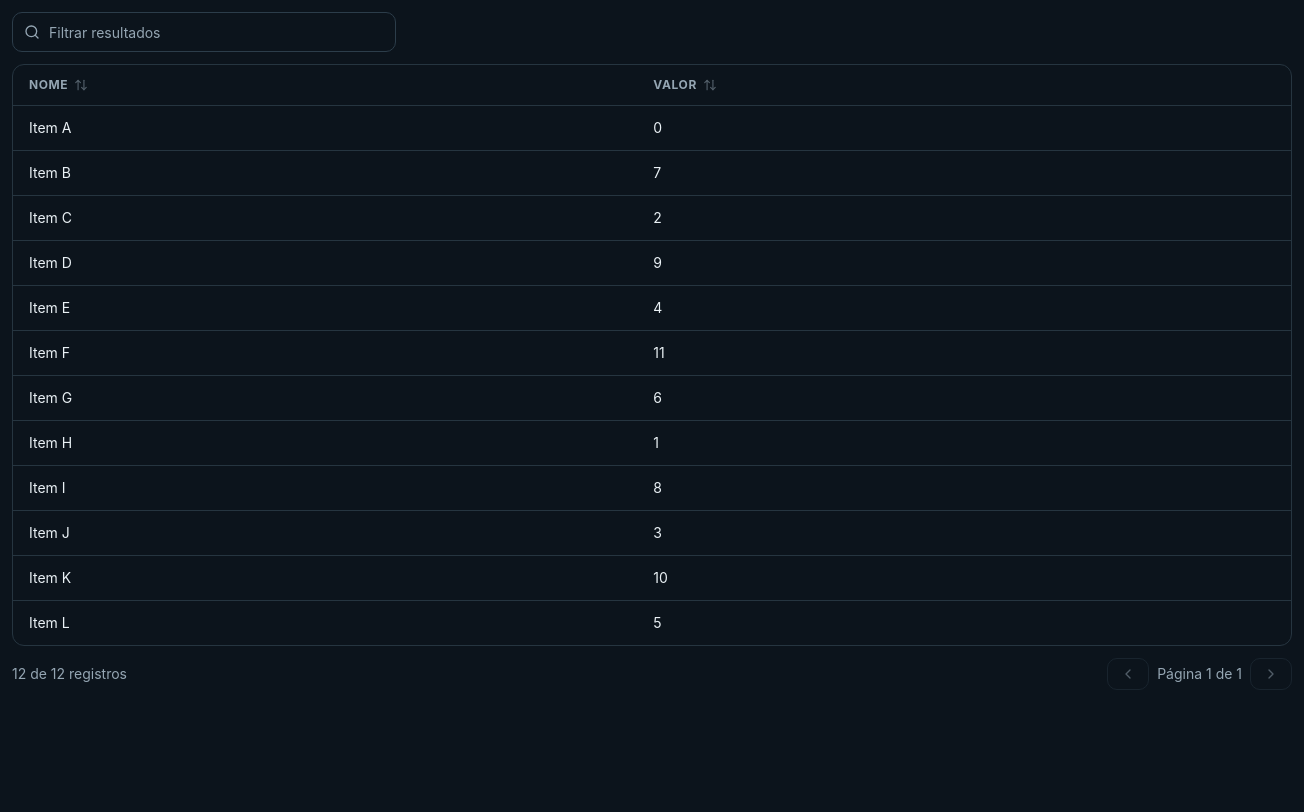
Test case: DataTable › filtra pela busca global e mostra estado vazio
Type "Item C" into the search field with placeholder "Filtrar resultados". click: (204, 32)
box: 12,12 -> 396,52
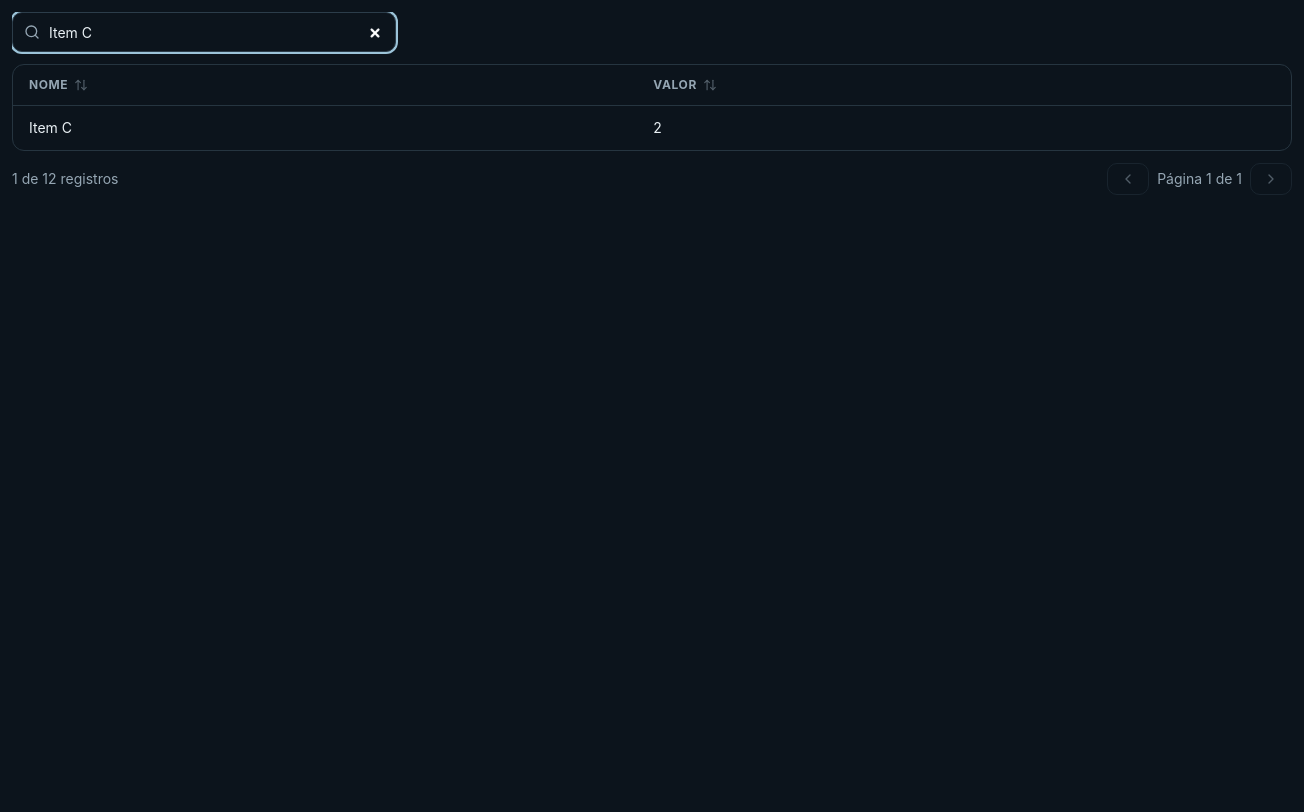
Type "zzz" into the search field with placeholder "Filtrar resultados". click: (204, 32)
box: 12,12 -> 396,52
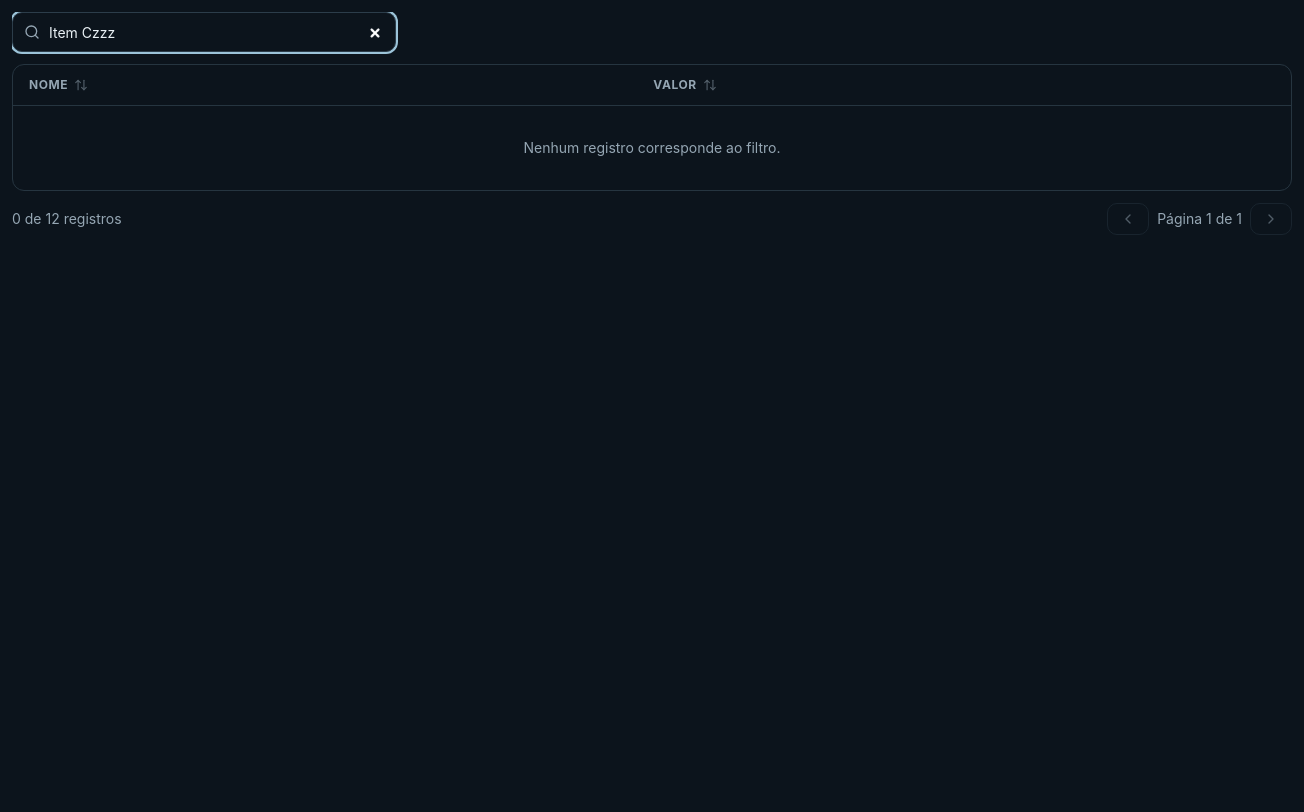
Check: the text "Nenhum registro corresponde ao filtro." is shown, box 13,105 -> 1291,190
